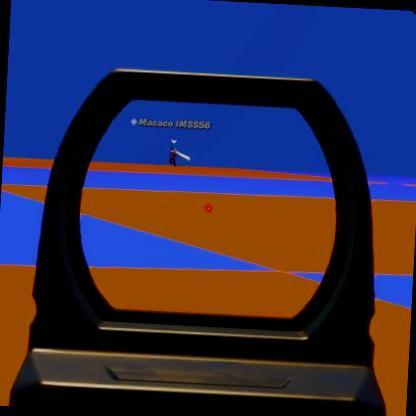person: (167, 146, 182, 165)
